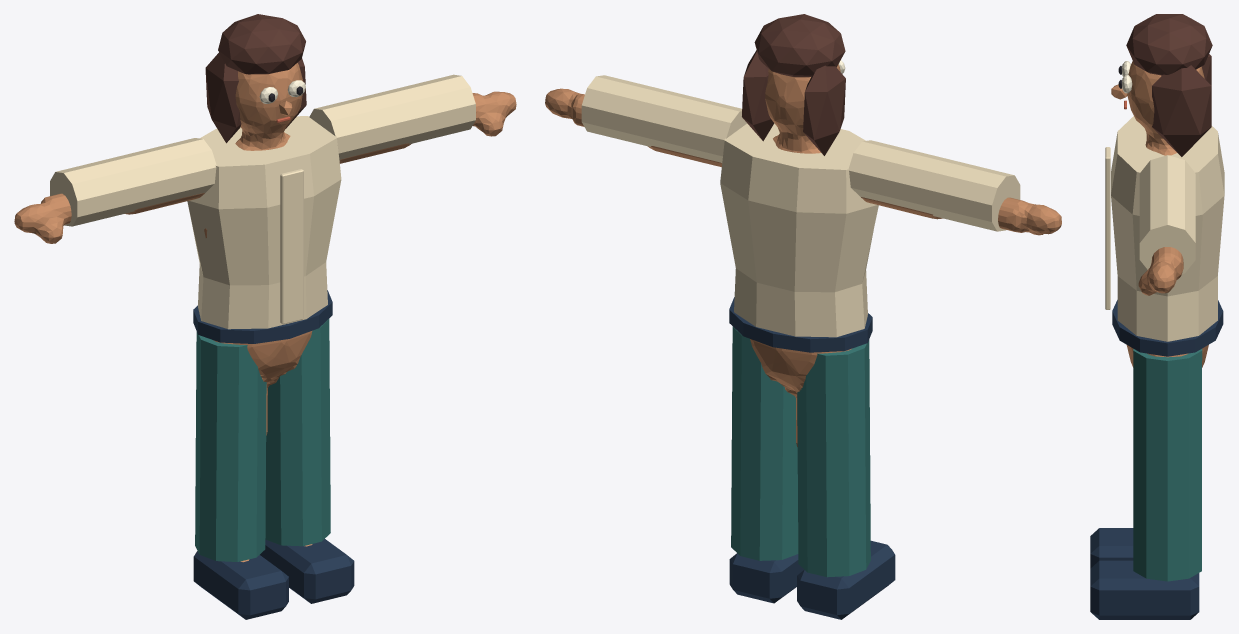
The model's file is Civilian_04.fbx.
3 renders of one model, left to right at view 1: azimuth 30°, elevation 25°; view 2: azimuth 150°, elevation 25°; view 3: azimuth 270°, elevation 25°, orthographic. The views are drawn at different scales.
Visible parts, largest first — view 1: Shirt.003, PantsLeg.006, PantsLeg.007, Civilian_04_Base_BaseMale_TPose_Body, Sleeve.006, Sleeve.007, Shoe.006, HairCap.003, Shoe.007, JacketOpening, Belt.003, HairSide; view 2: Shirt.003, PantsLeg.006, PantsLeg.007, Sleeve.006, Sleeve.007, Civilian_04_Base_BaseMale_TPose_Body, HairCap.003, Shoe.006, HairSide, Shoe.007, Belt.003, HairSide.001; view 3: PantsLeg.007, Shirt.003, Sleeve.007, Shoe.007, HairCap.003, HairSide.001, Civilian_04_Base_BaseMale_TPose_Body, Belt.003, Shoe.006, JacketOpening, HairSide.
Part boxes in pixels (x1=…): Shirt.003: x1=187, y1=116, x2=341, y2=329; PantsLeg.006: x1=195, y1=332, x2=266, y2=561; PantsLeg.007: x1=265, y1=319, x2=330, y2=546; Civilian_04_Base_BaseMale_TPose_Body: x1=14, y1=63, x2=516, y2=562; Sleeve.006: x1=50, y1=138, x2=216, y2=226; Sleeve.007: x1=309, y1=74, x2=475, y2=160; Shoe.006: x1=193, y1=551, x2=288, y2=619; HairCap.003: x1=218, y1=14, x2=305, y2=74; Shoe.007: x1=260, y1=539, x2=354, y2=603; JacketOpening: x1=280, y1=169, x2=303, y2=324; Belt.003: x1=193, y1=290, x2=332, y2=343; HairSide: x1=205, y1=52, x2=241, y2=143; Shirt.003: x1=720, y1=123, x2=878, y2=337; PantsLeg.006: x1=797, y1=340, x2=870, y2=577; PantsLeg.007: x1=731, y1=326, x2=798, y2=560; Sleeve.006: x1=848, y1=140, x2=1020, y2=231; Sleeve.007: x1=581, y1=75, x2=746, y2=162; Civilian_04_Base_BaseMale_TPose_Body: x1=545, y1=64, x2=1061, y2=446; HairCap.003: x1=754, y1=14, x2=845, y2=77; Shoe.006: x1=797, y1=540, x2=895, y2=619; HairSide: x1=803, y1=65, x2=845, y2=155; Shoe.007: x1=729, y1=553, x2=804, y2=603; Belt.003: x1=729, y1=297, x2=872, y2=352; HairSide.001: x1=742, y1=50, x2=774, y2=141; PantsLeg.007: x1=1133, y1=349, x2=1202, y2=581; Shirt.003: x1=1111, y1=116, x2=1224, y2=341; Sleeve.007: x1=1139, y1=155, x2=1195, y2=273; Shoe.007: x1=1090, y1=560, x2=1199, y2=619; HairCap.003: x1=1126, y1=14, x2=1212, y2=75; HairSide.001: x1=1152, y1=65, x2=1211, y2=156; Civilian_04_Base_BaseMale_TPose_Body: x1=1126, y1=61, x2=1208, y2=367; Belt.003: x1=1112, y1=300, x2=1223, y2=356; Shoe.006: x1=1090, y1=528, x2=1133, y2=568; JacketOpening: x1=1105, y1=147, x2=1110, y2=309; HairSide: x1=1201, y1=54, x2=1211, y2=85.
Bounding box in the file's own units: 1.68 × 1.82 × 0.3817.
